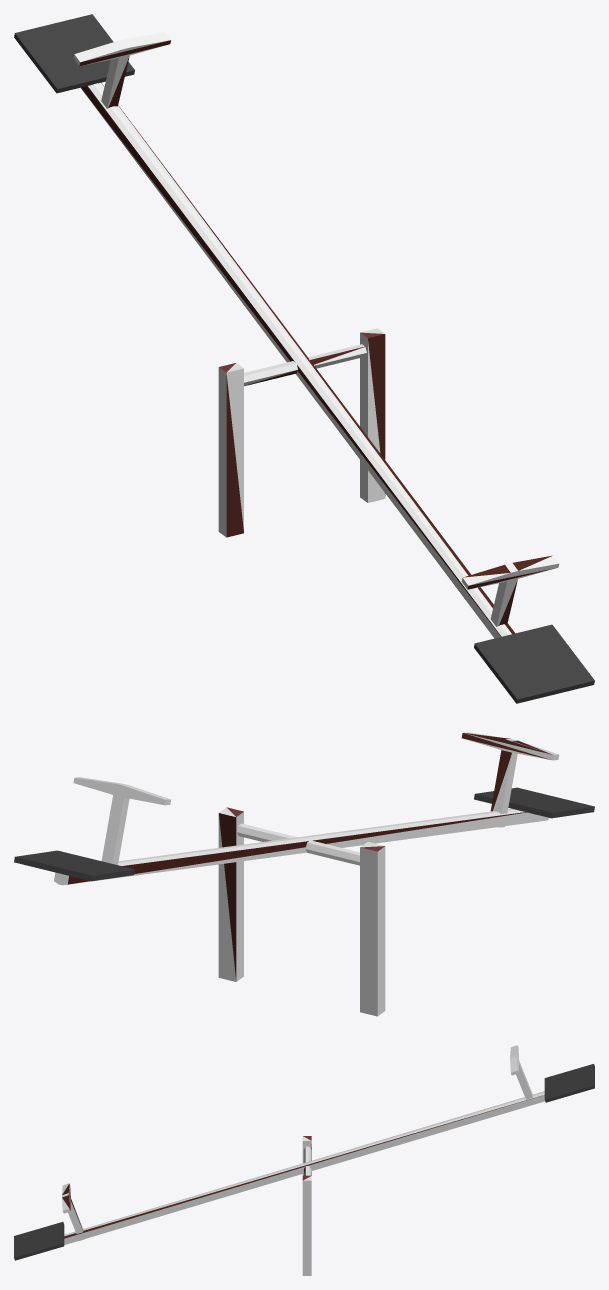
Rendered from rura.fbx.
3 views of the same model, one above another, from view 1: azimuth 30°, elevation 25°; view 2: azimuth 150°, elevation 25°; view 3: azimuth 270°, elevation 25° (orthographic). The views are drawn at different scales.
Visible parts, largest first — view 1: Cube; view 2: Cube; view 3: Cube.
Part boxes in pixels (x1,y1,x2,y2): Cube: (14, 14, 594, 703); Cube: (14, 732, 594, 1016); Cube: (14, 1045, 594, 1275).
Size of the model in its own units: 561 by 211 by 102.
